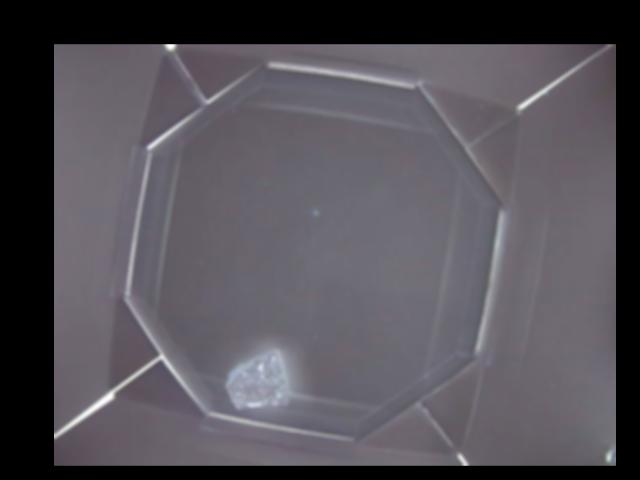China: (224, 351, 288, 410)
